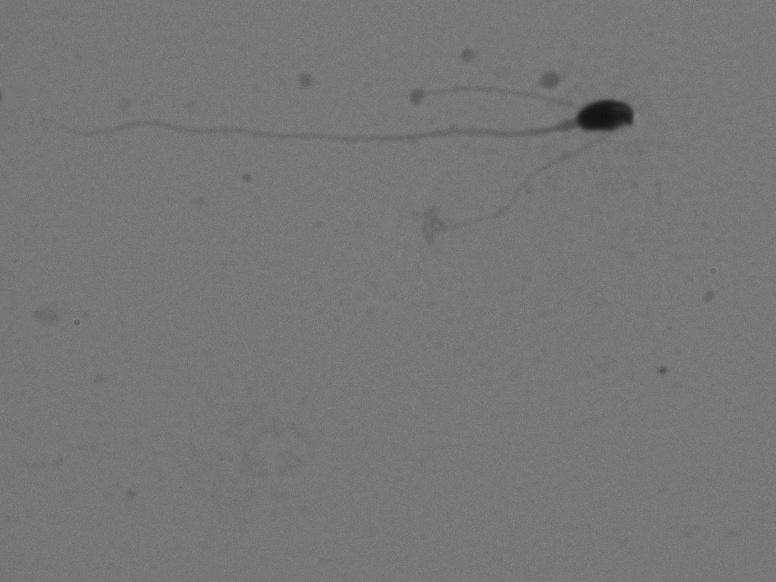Abnormal: (28, 76, 662, 190)
